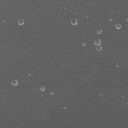corrosion: (93, 37, 103, 46), (69, 18, 79, 26), (17, 18, 26, 26), (11, 78, 19, 86), (114, 22, 122, 30), (39, 85, 46, 92), (96, 28, 103, 35), (96, 45, 103, 52), (80, 41, 87, 47), (49, 91, 54, 96), (61, 7, 66, 11), (62, 106, 67, 109)
